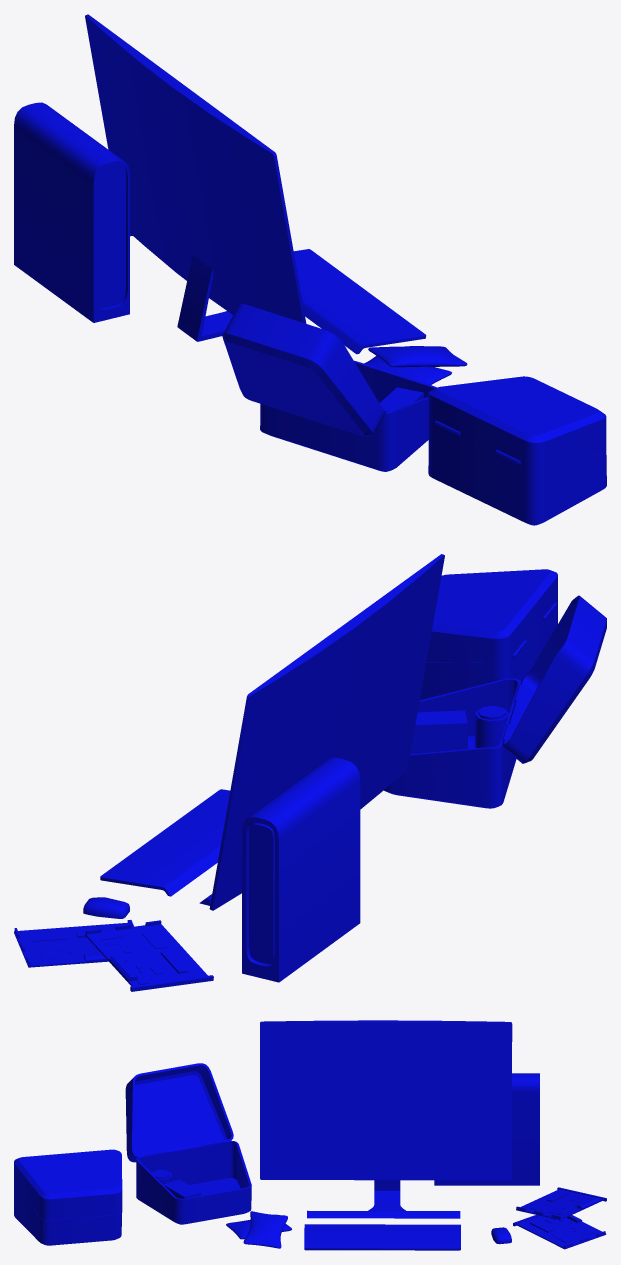
Rendered from ClutterPile_2.FBX.
3 renders of one model, top to bottom at view 1: azimuth 30°, elevation 25°; view 2: azimuth 150°, elevation 25°; view 3: azimuth 270°, elevation 25°, orthographic. The views are drawn at different scales.
Parts seen in each view (by area): view 1: ClutterPile_2; view 2: ClutterPile_2; view 3: ClutterPile_2.
Part boxes in pixels (x1,y1,x2,y2): ClutterPile_2: (14, 14, 606, 525); ClutterPile_2: (14, 554, 606, 991); ClutterPile_2: (14, 1020, 606, 1250).
Size of the model in its own units: 13.93 by 11.87 by 37.3.
